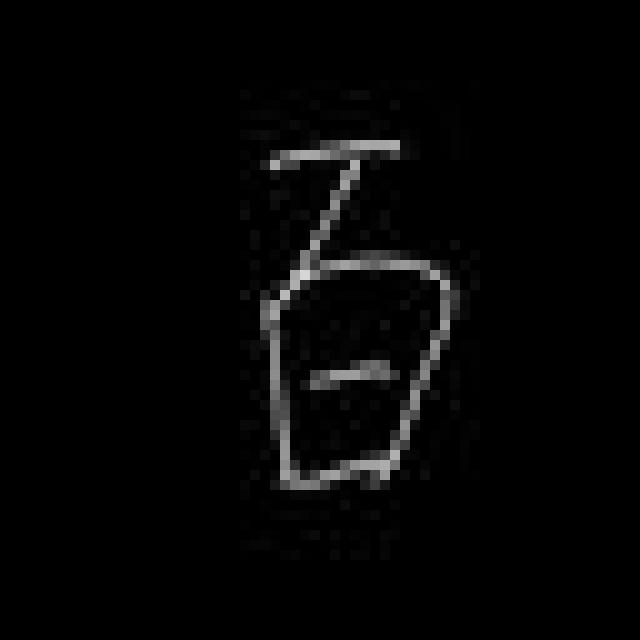100 -a hundred-: (237, 118, 463, 515)
